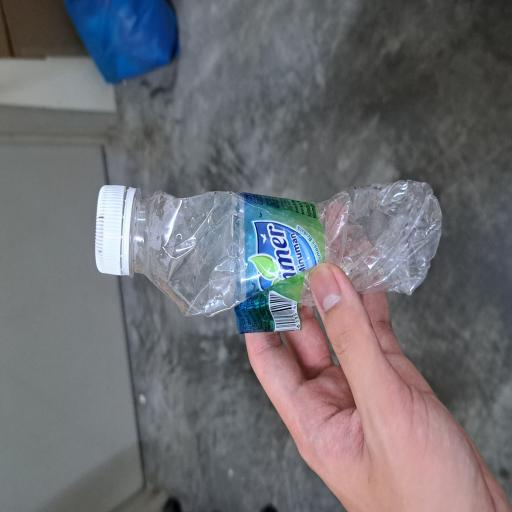plastic bottle: (129, 171, 249, 512)
plastic bottle cap: (178, 128, 247, 182)
